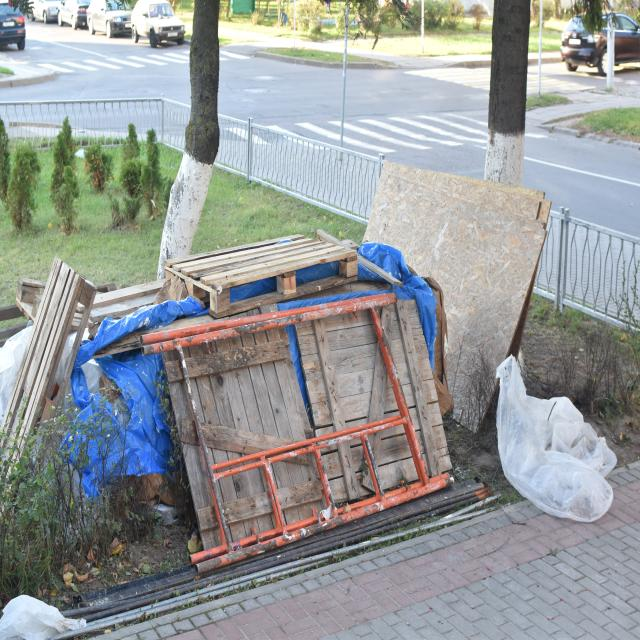entulho: (144, 276, 457, 568), (349, 148, 558, 432), (18, 266, 208, 515), (1, 251, 103, 504), (495, 360, 620, 524), (162, 226, 369, 323), (0, 595, 90, 640)
